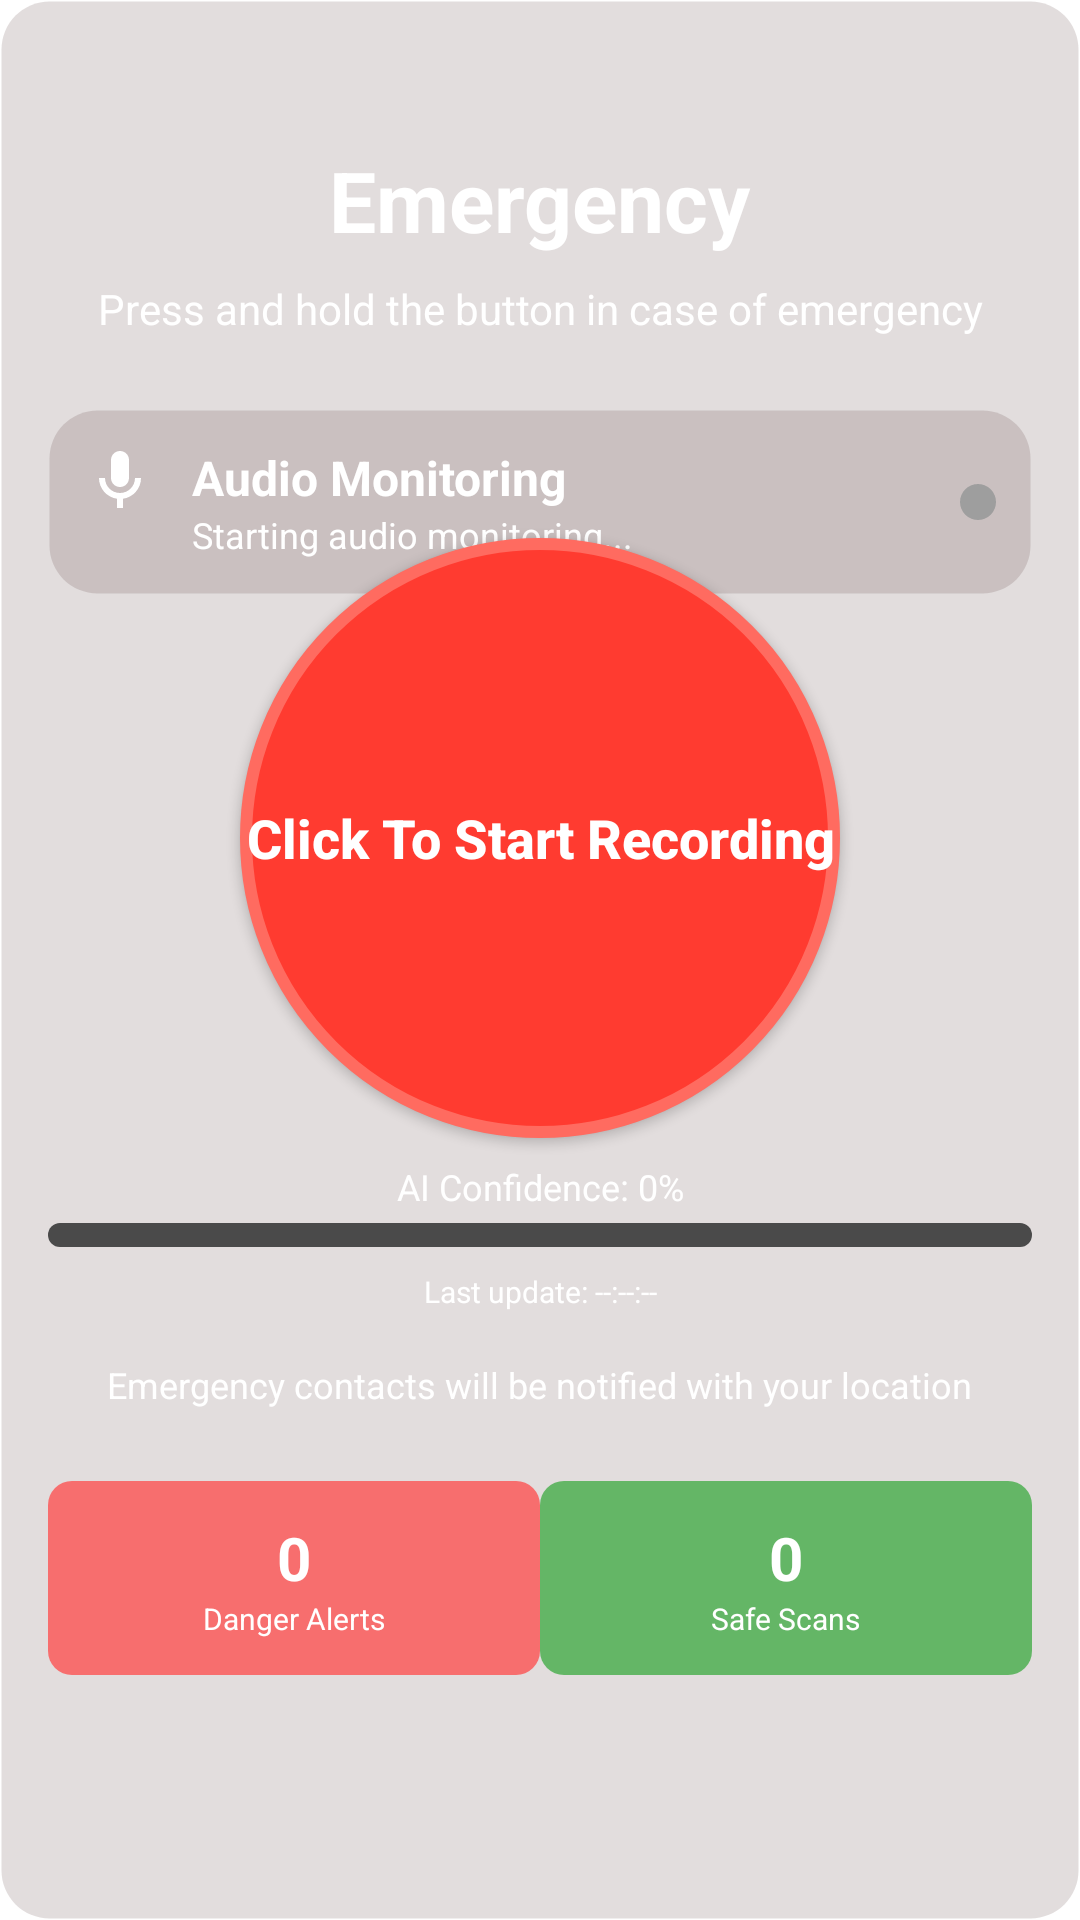

Icons on this 1080×1920 Android screen, each with the point to tap as point (x, y):
mic: point (120, 479)
